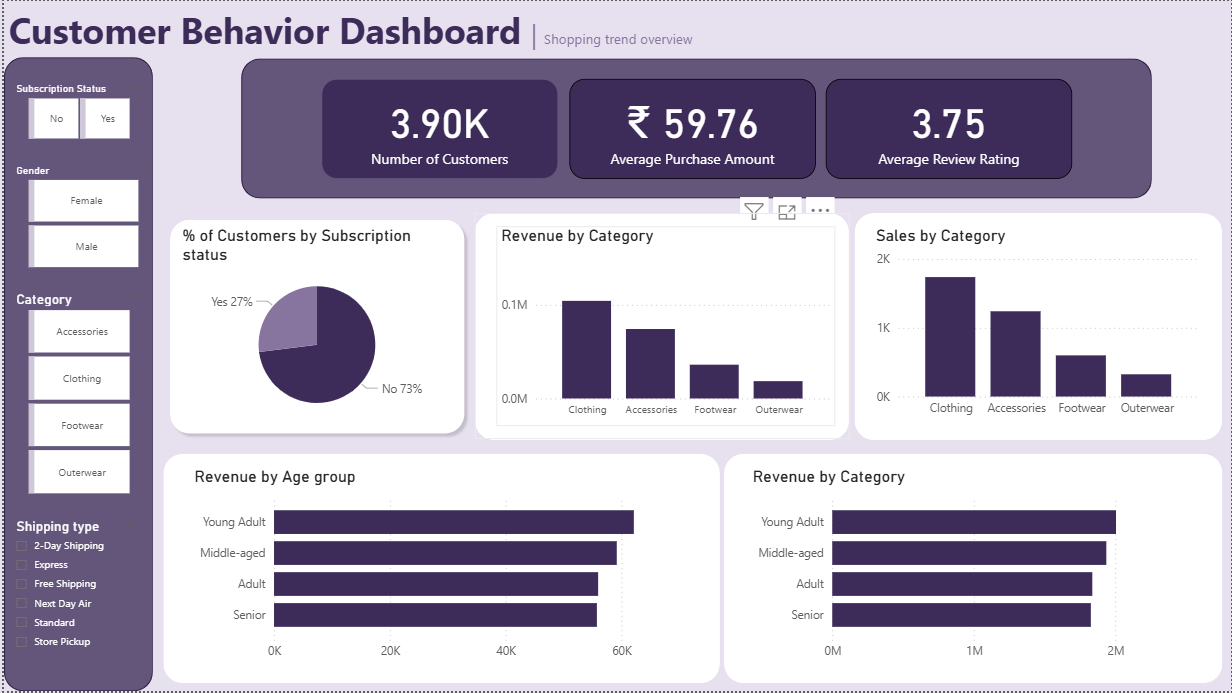

The page's visual inventory and layout, read from the dashboard file:
{"tool":"powerbi","page":{"name":"Page 2","canvas":[1280,720],"ordinal":0},"visuals":[{"type":"shape","box":[0,0,1279,720],"z":0},{"type":"shape","box":[247.4,59.8,950.3,146.1],"z":0,"group":"g6"},{"type":"card","fields":{"Values":["public customer.Number of Customers"]},"box":[330.6,80.6,247,104.2],"z":1000,"group":"g8"},{"type":"group","id":"g1","title":"Group 2","box":[165.7,220.9,321,237],"z":1000},{"type":"shape","box":[165.7,220.9,321,237],"z":1000,"group":"g1"},{"type":"shape","box":[491.8,220.9,390.6,237],"z":1000,"group":"g7"},{"type":"shape","box":[887.6,220.9,383.7,237],"z":1000,"group":"g3"},{"type":"group","id":"g2","title":"Group 2","box":[165.7,472.9,580.8,239.3],"z":1000,"group":"g5"},{"type":"shape","box":[165.7,472.9,580.8,239.3],"z":1000,"group":"g2"},{"type":"shape","box":[751,472.9,520.3,239.3],"z":1000,"group":"g4"},{"type":"card","fields":{"Values":["public customer.Average Purchase Amount"]},"box":[588.9,80.9,257.2,104.2],"z":2000,"group":"g8"},{"type":"group","id":"g3","title":"Group 2","box":[887.6,220.9,383.7,237],"z":2000},{"type":"pieChart","title":"% of Customers by Subscription status","fields":{"Y":["Count(public customer.customer_id)"],"Category":["public customer.subscription_status"]},"box":[180.9,235,290.7,208.8],"z":2000,"group":"g1"},{"type":"columnChart","title":"Revenue by Category","fields":{"Y":["Sum(public customer.purchase_amount)"],"Category":["public customer.category"]},"box":[514.8,235,353.4,208.8],"z":2000,"group":"g7"},{"type":"columnChart","title":"Sales by Category","fields":{"Y":["Count(public customer.customer_id)"],"Category":["public customer.category"]},"box":[905.7,235,347.5,208.8],"z":2000,"group":"g3"},{"type":"barChart","title":"Revenue by Age group","fields":{"Y":["Sum(public customer.purchase_amount)"],"Category":["public customer.age_group"]},"box":[193.1,487.2,525.9,210.8],"z":2000,"group":"g2"},{"type":"barChart","title":"Sales by Age group","fields":{"Category":["public customer.age_group"],"Y":["Sum(public customer.customer_id)"]},"box":[775.6,487.2,471.2,210.8],"z":2000,"group":"g4"},{"type":"textbox","box":[0,0,1279.4,59.8],"z":3000},{"type":"card","fields":{"Values":["public customer.Average Review Rating"]},"box":[857.4,80.6,257.2,104.2],"z":3000,"group":"g8"},{"type":"shape","box":[0,58.7,155.3,661.5],"z":4000},{"type":"group","id":"g4","title":"Group 2","box":[751,472.9,520.3,239.3],"z":4000,"group":"g5"},{"type":"slicer","fields":{"Values":["public customer.gender"]},"box":[0,164.5,164.5,119.7],"z":5000},{"type":"slicer","fields":{"Values":["public customer.subscription_status"]},"box":[0,80.5,155.3,70.2],"z":6000},{"type":"slicer","fields":{"Values":["public customer.category"]},"box":[0,298,155.3,223.2],"z":7000},{"type":"slicer","fields":{"Values":["public customer.shipping_type"]},"box":[0,534.8,154.2,185.2],"z":8000},{"type":"group","id":"g5","title":"Group 3","box":[165.7,472.9,1105.6,239.3],"z":9000},{"type":"group","id":"g6","title":"Group 5","box":[247.4,59.8,950.3,146.1],"z":10000},{"type":"group","id":"g7","title":"Group 1","box":[491.8,220.9,390.6,237],"z":11000},{"type":"group","id":"g8","title":"Group 4","box":[330.6,80.6,783.9,104.5],"z":11003,"group":"g6"}]}

Visuals, with their boxes in screenshot pixels (x1, y1, x2, y2), scaled from the page's 1280x720 canvas onto the 1232x693 screenshot:
shape: (0, 0, 1231, 692)
shape: (238, 58, 1153, 198)
card - public customer.Number of Customers: (318, 78, 556, 178)
"Group 2" group: (159, 213, 468, 441)
shape: (159, 213, 468, 441)
shape: (473, 213, 849, 441)
shape: (854, 213, 1224, 441)
"Group 2" group: (159, 455, 719, 685)
shape: (159, 455, 719, 685)
shape: (723, 455, 1224, 685)
card - public customer.Average Purchase Amount: (567, 78, 814, 178)
"Group 2" group: (854, 213, 1224, 441)
"% of Customers by Subscription status" pieChart: (174, 226, 454, 427)
"Revenue by Category" columnChart: (495, 226, 836, 427)
"Sales by Category" columnChart: (872, 226, 1206, 427)
"Revenue by Age group" barChart: (186, 469, 692, 672)
"Sales by Age group" barChart: (747, 469, 1200, 672)
textbox: (0, 0, 1231, 58)
card - public customer.Average Review Rating: (825, 78, 1073, 178)
shape: (0, 56, 149, 692)
"Group 2" group: (723, 455, 1224, 685)
slicer - public customer.gender: (0, 158, 158, 274)
slicer - public customer.subscription_status: (0, 77, 149, 145)
slicer - public customer.category: (0, 287, 149, 502)
slicer - public customer.shipping_type: (0, 515, 148, 692)
"Group 3" group: (159, 455, 1224, 685)
"Group 5" group: (238, 58, 1153, 198)
"Group 1" group: (473, 213, 849, 441)
"Group 4" group: (318, 78, 1073, 178)
